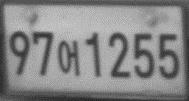1: (84, 32, 101, 77)
2: (108, 32, 131, 79)
5: (133, 32, 155, 78), (158, 33, 180, 79)
7: (31, 30, 54, 76)
9: (8, 29, 30, 76)
어: (57, 40, 81, 76)
